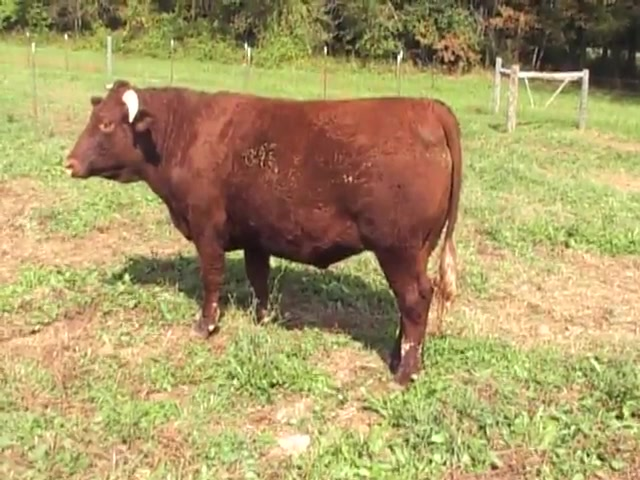cow: (61, 80, 464, 391)
